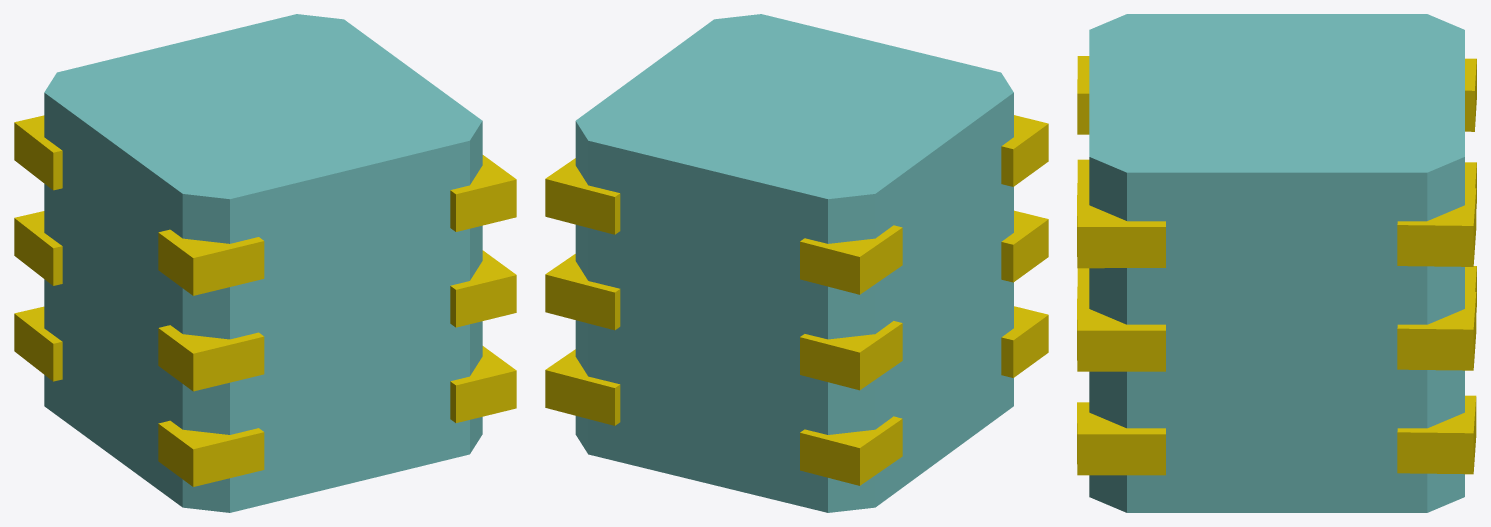
The model's file is Generic Center BlueYellow.fbx.
3 renders of one model, left to right at view 1: azimuth 30°, elevation 25°; view 2: azimuth 150°, elevation 25°; view 3: azimuth 270°, elevation 25°, orthographic. The views are drawn at different scales.
Parts seen in each view (by area): view 1: pCube16; view 2: pCube16; view 3: pCube16.
Boxes of the visible parts, x1,y1,x2,y2 form: pCube16: [14, 14, 516, 512]; pCube16: [545, 14, 1048, 512]; pCube16: [1077, 14, 1476, 512].
Bounding box in the file's own units: 2.16 × 2 × 2.13.
